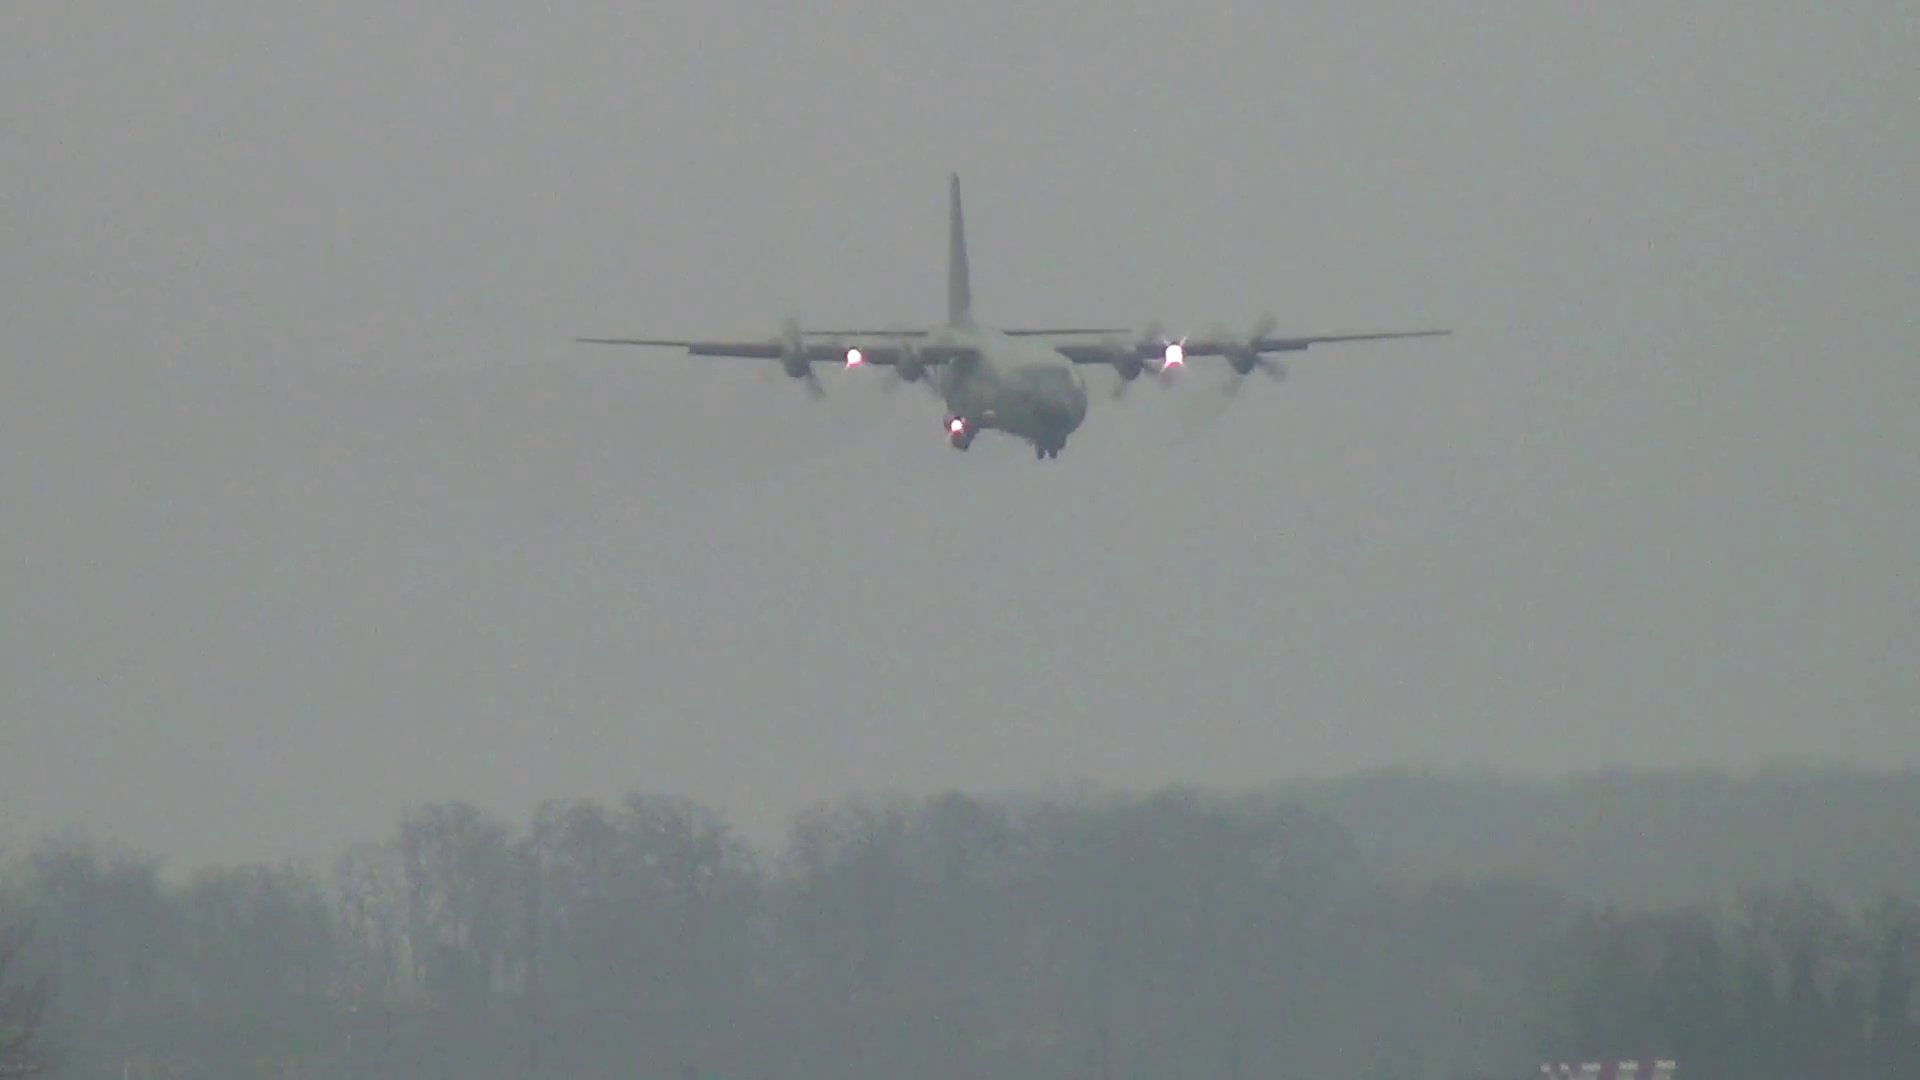Airplane: (568, 167, 1464, 458)
